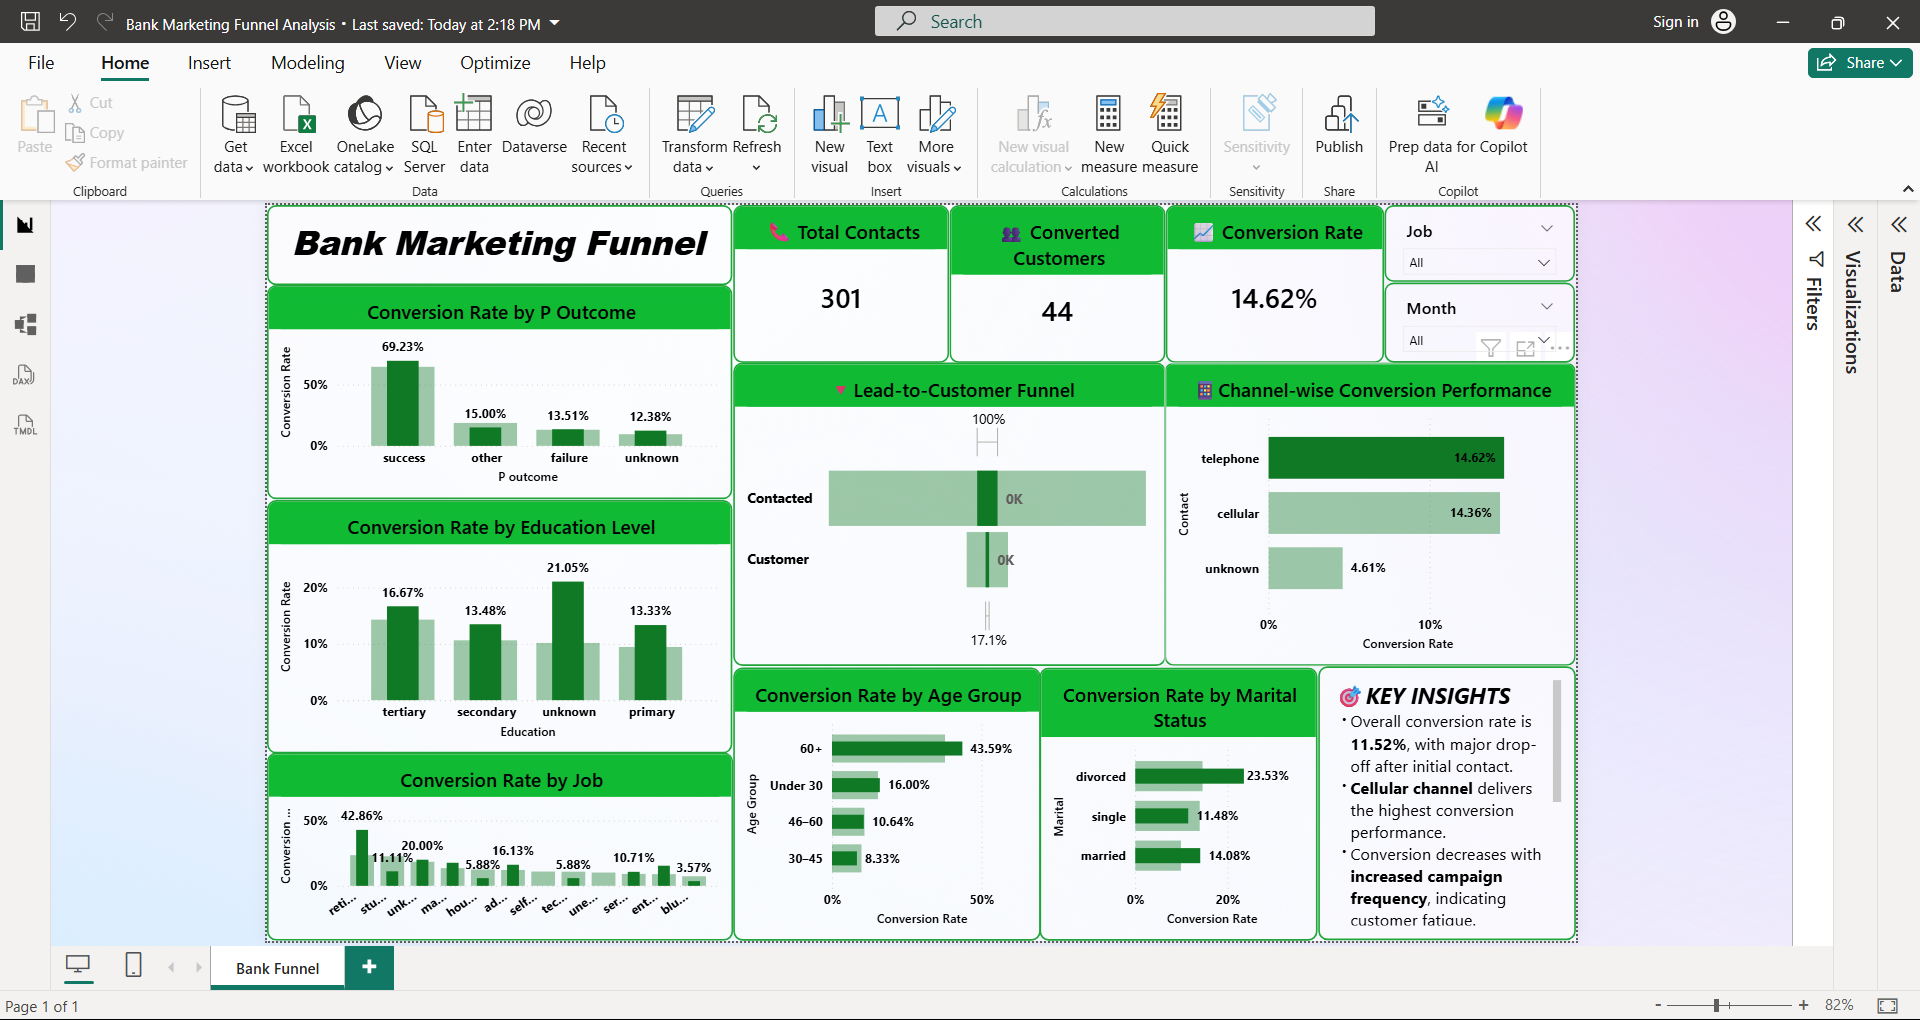

The dashboard page shown, as its layout file describes it:
{"tool":"powerbi","page":{"name":"Page 1","canvas":[1280,720],"ordinal":0},"visuals":[{"type":"card","title":"Total Contacts","fields":{"Values":["Cleaned_Bank_data.Total Contacts"]},"box":[455.6,0,211.3,153.7],"z":0},{"type":"card","title":"Converted Customers","fields":{"Values":["Cleaned_Bank_data.Total Customers"]},"box":[666.9,0,219.6,153.7],"z":1000},{"type":"card","title":"Conversion Rate","fields":{"Values":["Cleaned_Bank_data.Conversion Rate"]},"box":[886.6,0,210.3,154.1],"z":2000},{"type":"funnel","title":"Lead-to-Customer Funnel","fields":{"Y":["Cleaned_Bank_data.Funnel Count"],"Category":["Cleaned_Bank_data.Funnel Stage"]},"box":[455.6,153.7,413,299.1],"z":3000},{"type":"clusteredBarChart","title":"Channel-wise Conversion Performance","fields":{"Category":["Cleaned_Bank_data.Contact"],"Y":["Cleaned_Bank_data.Conversion Rate"]},"box":[868.6,153.7,411.7,299.1],"z":4000},{"type":"slicer","fields":{"Values":["Cleaned_Bank_data.Month"]},"box":[1093.7,75.5,186.6,78.2],"z":5000},{"type":"slicer","fields":{"Values":["Cleaned_Bank_data.Job"]},"box":[1093.7,0,186.6,75.5],"z":6000},{"type":"clusteredBarChart","title":"Conversion Rate by Marital Status","fields":{"Category":["Cleaned_Bank_data.Marital"],"Y":["Cleaned_Bank_data.Conversion Rate"]},"box":[756.1,452.8,271.7,267.6],"z":7000},{"type":"clusteredColumnChart","title":"Conversion Rate by Education Level","fields":{"Category":["Cleaned_Bank_data.Education"],"Y":["Cleaned_Bank_data.Conversion Rate"]},"box":[0,288.2,455.6,248.4],"z":8000},{"type":"clusteredBarChart","fields":{"Category":["Cleaned_Bank_data.Age Group"],"Y":["Cleaned_Bank_data.Conversion Rate"]},"box":[455.6,452.8,300.5,267.6],"z":9000},{"type":"clusteredColumnChart","title":"Conversion Rate by P Outcome","fields":{"Y":["Cleaned_Bank_data.Conversion Rate"],"Category":["Cleaned_Bank_data.P out Come"]},"box":[0,78.2,455.6,209.9],"z":10000},{"type":"textbox","title":"Bank Marketing Funnel","box":[0,0,455.6,78.2],"z":11000},{"type":"clusteredColumnChart","fields":{"Category":["Cleaned_Bank_data.Job"],"Y":["Cleaned_Bank_data.Conversion Rate"]},"box":[0,536,456,184],"z":12000},{"type":"textbox","box":[1028.4,451.2,251.9,267.8],"z":13000}]}

Visuals, with their boxes on the page's 1280x720 design canvas (x1, y1, x2, y2). These are canvas units, not pixel positions in the 1920x1020 screenshot, which may show the page scaled, cropped or inside an application window:
"Total Contacts" card: [left=456, top=0, right=667, bottom=154]
"Converted Customers" card: [left=667, top=0, right=886, bottom=154]
"Conversion Rate" card: [left=887, top=0, right=1097, bottom=154]
"Lead-to-Customer Funnel" funnel: [left=456, top=154, right=869, bottom=453]
"Channel-wise Conversion Performance" clusteredBarChart: [left=869, top=154, right=1280, bottom=453]
slicer - Cleaned_Bank_data.Month: [left=1094, top=76, right=1280, bottom=154]
slicer - Cleaned_Bank_data.Job: [left=1094, top=0, right=1280, bottom=76]
"Conversion Rate by Marital Status" clusteredBarChart: [left=756, top=453, right=1028, bottom=720]
"Conversion Rate by Education Level" clusteredColumnChart: [left=0, top=288, right=456, bottom=537]
clusteredBarChart - Cleaned_Bank_data.Age Group x Cleaned_Bank_data.Conversion Rate: [left=456, top=453, right=756, bottom=720]
"Conversion Rate by P Outcome" clusteredColumnChart: [left=0, top=78, right=456, bottom=288]
"Bank Marketing Funnel" textbox: [left=0, top=0, right=456, bottom=78]
clusteredColumnChart - Cleaned_Bank_data.Job x Cleaned_Bank_data.Conversion Rate: [left=0, top=536, right=456, bottom=720]
textbox: [left=1028, top=451, right=1280, bottom=719]
